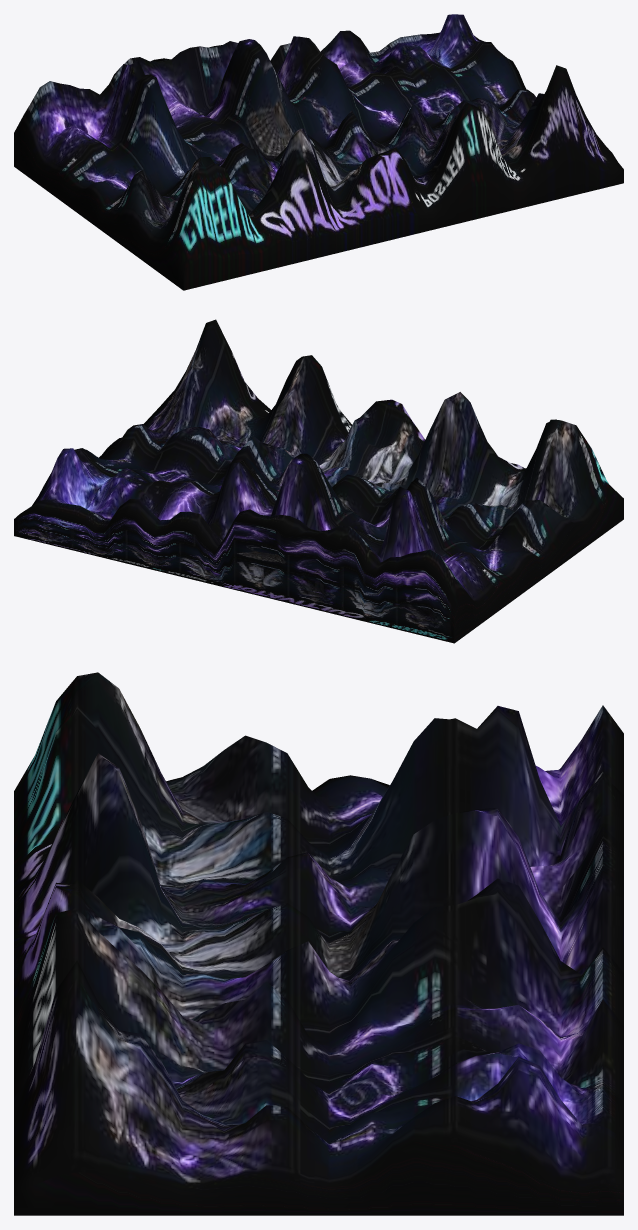
File: CAREER_07_Poster_21.glb
3 renders of one model, top to bottom at view 1: azimuth 30°, elevation 25°; view 2: azimuth 150°, elevation 25°; view 3: azimuth 270°, elevation 25°, orthographic. The views are drawn at different scales.
Visible parts, largest first — view 1: CAREER_07_Poster_21; view 2: CAREER_07_Poster_21; view 3: CAREER_07_Poster_21.
Part boxes in pixels (x1,y1,x2,y2): CAREER_07_Poster_21: [14, 14, 623, 290]; CAREER_07_Poster_21: [14, 319, 623, 643]; CAREER_07_Poster_21: [14, 672, 623, 1215].
Size of the model in its own units: 2 by 0.51 by 1.33.
1 material, 1 textured.
